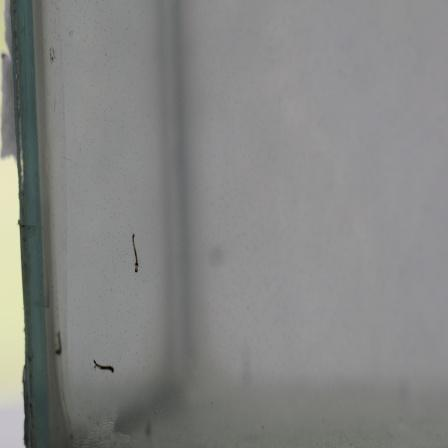Jentik-Nyamuk: (127, 231, 142, 274), (51, 328, 68, 362), (92, 356, 116, 378)
